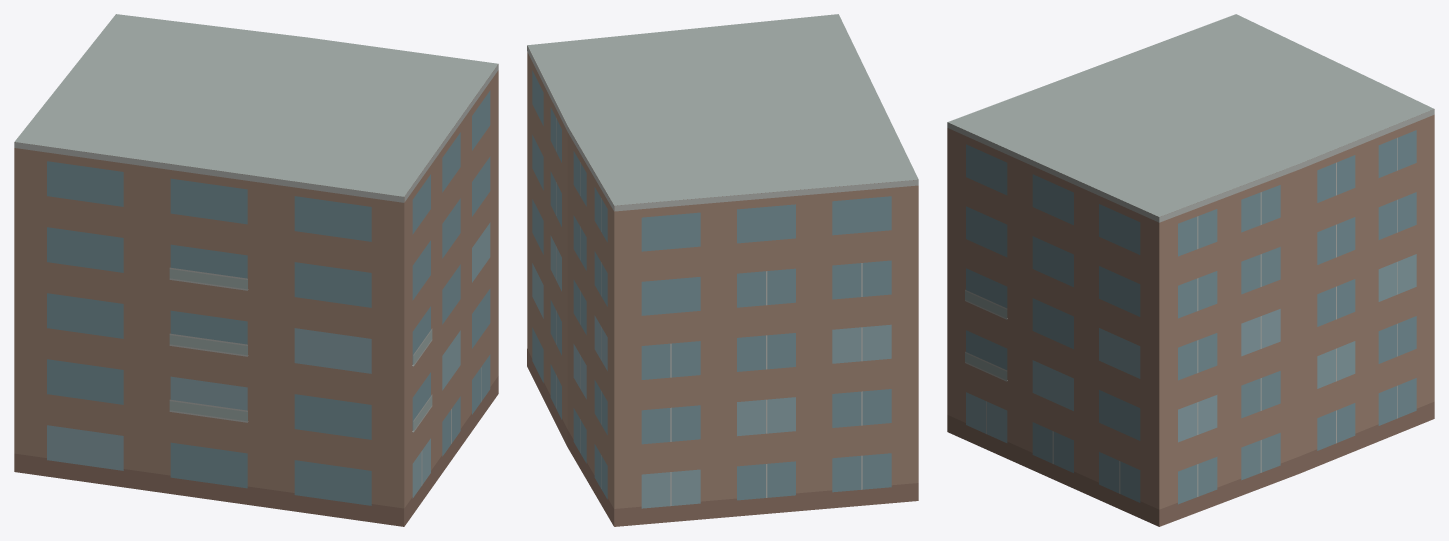
Rendered from survey-upis-32832715.glb.
The picture shows the model from 3 angles, left to right: view 1: azimuth 30°, elevation 25°; view 2: azimuth 150°, elevation 25°; view 3: azimuth 270°, elevation 25°; orthographic projection. The views are drawn at different scales.
Visible parts, largest first — view 1: survey-upis-32832715.tmp; view 2: survey-upis-32832715.tmp; view 3: survey-upis-32832715.tmp.
Part boxes in pixels (x1,y1,x2,y2): survey-upis-32832715.tmp: (14,14,498,526); survey-upis-32832715.tmp: (527,14,918,526); survey-upis-32832715.tmp: (947,14,1434,526).
Bounding box in the file's own units: 18.84 × 13.4 × 19.1.
